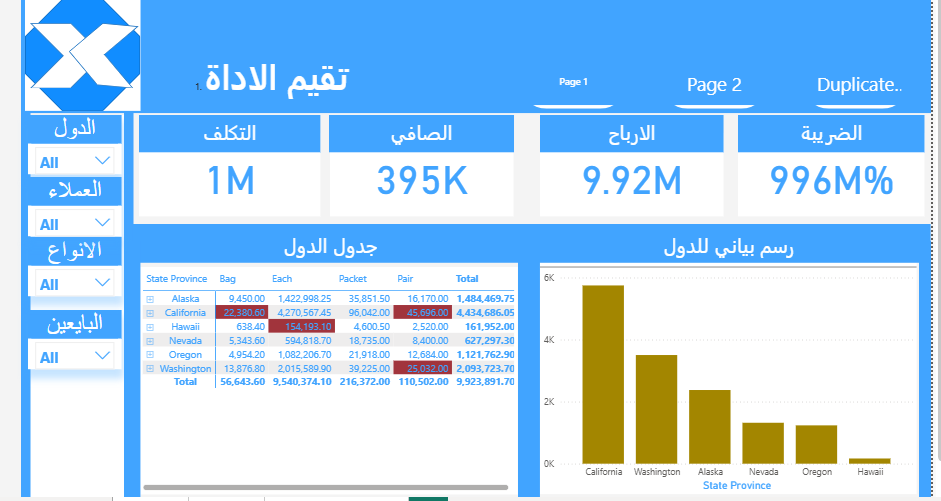

This screenshot's page, from the dashboard's own definition file:
{"tool":"powerbi","page":{"name":"Page 1","canvas":[1280,720],"ordinal":0},"visuals":[{"type":"textbox","box":[35.4,0,1244.6,155.9],"z":500},{"type":"textbox","box":[39.7,158.9,141.9,560.5],"z":1000},{"type":"pivotTable","fields":{"Values":["Sum(fact.Profit)"],"Columns":["fact.Package"],"Rows":["city.State Province Hierarchy.State Province","city.State Province Hierarchy.City"]},"box":[197.3,366.1,518,310.8],"z":2000},{"type":"clusteredColumnChart","fields":{"Category":["city.State Province"],"Y":["Sum(fact.Total Chiller Items)"]},"box":[745,360.4,515.1,316.5],"z":3000},{"type":"card","fields":{"Values":["fact.mesh"]},"box":[1016.1,183.1,255.4,113.5],"z":4000},{"type":"card","fields":{"Values":["Sum(fact.Profit)"]},"box":[745,183.1,251.2,113.5],"z":5000},{"type":"card","fields":{"Values":["Sum(fact.Tax Rate)"]},"box":[458.4,183.1,251.2,113.5],"z":6000},{"type":"card","fields":{"Values":["Sum(fact.Total Dry Items)"]},"box":[196.9,182.9,247.9,114.3],"z":7000},{"type":"textbox","box":[175.8,0,12.8,720.1],"z":8000},{"type":"textbox","box":[35.4,155.9,12.8,564.2],"z":10000},{"type":"pageNavigator","box":[708.1,66.7,552,92.2],"z":11000},{"type":"slicer","title":"الدول","fields":{"Values":["city.State Province"]},"box":[45.4,158.8,127.6,80.8],"z":12000},{"type":"slicer","title":"البايعين","fields":{"Values":["customer.Category"]},"box":[45.4,425.7,127.7,80.9],"z":13000},{"type":"slicer","title":"الانواع","fields":{"Values":["stock.Stock Item"]},"box":[45.4,326,127.6,80.8],"z":14000},{"type":"slicer","title":"العملاء","fields":{"Values":["employe.Employee"]},"box":[45.4,243.8,127.6,80.8],"z":15000},{"type":"textbox","box":[188.7,307.9,539.2,52.5],"z":16000},{"type":"textbox","box":[728,307.9,552,52.5],"z":17000},{"type":"textbox","box":[181.6,330.6,17,388.8],"z":18000},{"type":"textbox","box":[188.7,66.7,374.6,86.6],"z":18500},{"type":"textbox","box":[1263,330.6,17,388.8],"z":19000},{"type":"textbox","box":[715.2,325,29.8,394.5],"z":20000},{"type":"textbox","box":[196.9,158.2,247.9,51],"z":21000},{"type":"textbox","box":[1016.1,158.9,255.4,51.1],"z":22000},{"type":"textbox","box":[745,158.9,251.2,51.1],"z":23000},{"type":"textbox","box":[456.9,158.9,252.6,51.1],"z":24000},{"type":"shape","box":[41.2,0,157.5,153.3],"z":25000},{"type":"shape","box":[48.2,32.6,100.8,89.4],"z":26000},{"type":"shape","box":[99.3,32.6,97.9,89.4],"z":27000}]}

Visuals, with their boxes on the page's 1280x720 design canvas (x1, y1, x2, y2). These are canvas units, not pixel positions in the 941x501 screenshot, which may show the page scaled, cropped or inside an application window:
textbox: rect(35, 0, 1280, 156)
textbox: rect(40, 159, 182, 719)
pivotTable - Sum(fact.Profit) x fact.Package: rect(197, 366, 715, 677)
clusteredColumnChart - city.State Province x Sum(fact.Total Chiller Items): rect(745, 360, 1260, 677)
card - fact.mesh: rect(1016, 183, 1272, 297)
card - Sum(fact.Profit): rect(745, 183, 996, 297)
card - Sum(fact.Tax Rate): rect(458, 183, 710, 297)
card - Sum(fact.Total Dry Items): rect(197, 183, 445, 297)
textbox: rect(176, 0, 189, 720)
textbox: rect(35, 156, 48, 720)
pageNavigator: rect(708, 67, 1260, 159)
"الدول" slicer: rect(45, 159, 173, 240)
"البايعين" slicer: rect(45, 426, 173, 507)
"الانواع" slicer: rect(45, 326, 173, 407)
"العملاء" slicer: rect(45, 244, 173, 325)
textbox: rect(189, 308, 728, 360)
textbox: rect(728, 308, 1280, 360)
textbox: rect(182, 331, 199, 719)
textbox: rect(189, 67, 563, 153)
textbox: rect(1263, 331, 1280, 719)
textbox: rect(715, 325, 745, 720)
textbox: rect(197, 158, 445, 209)
textbox: rect(1016, 159, 1272, 210)
textbox: rect(745, 159, 996, 210)
textbox: rect(457, 159, 710, 210)
shape: rect(41, 0, 199, 153)
shape: rect(48, 33, 149, 122)
shape: rect(99, 33, 197, 122)
